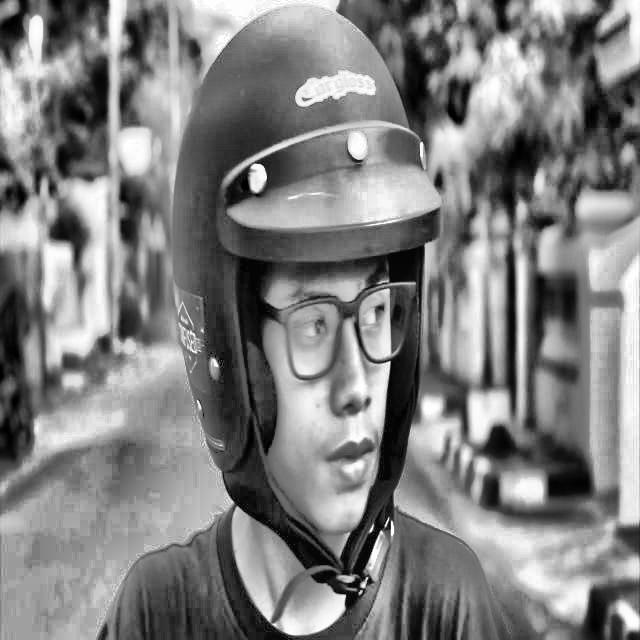Helmet: (165, 0, 448, 609)
